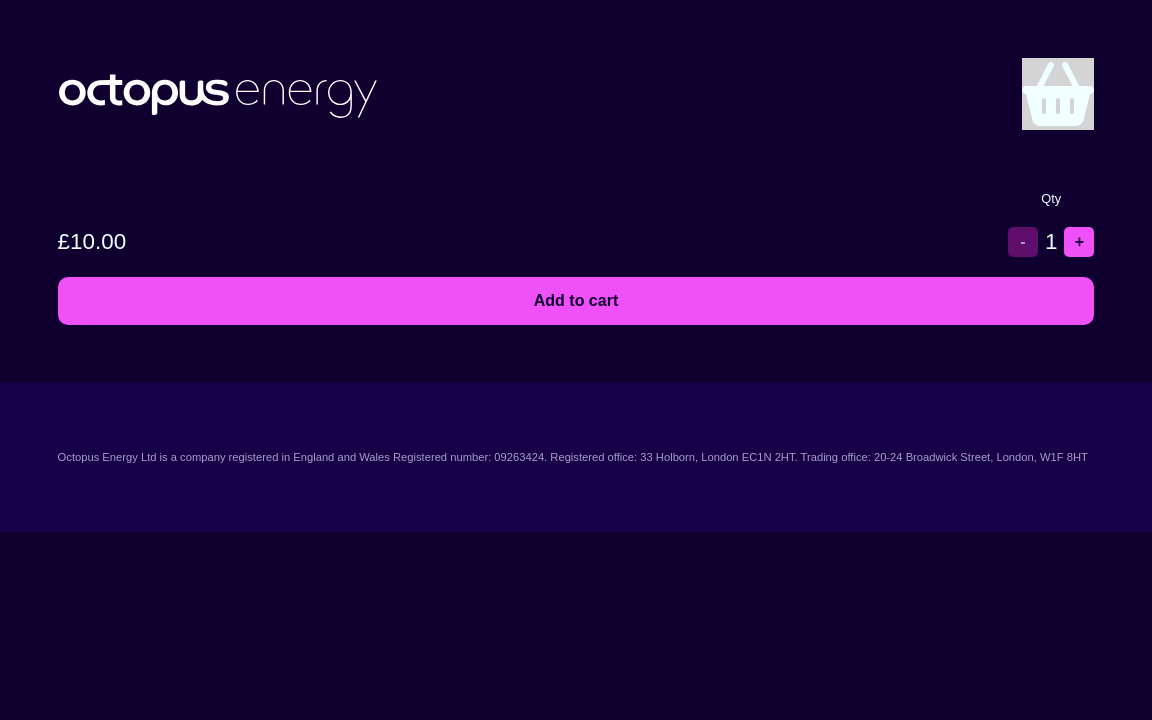
Test case: QuantityControls Component › should reset quantity to 1 if no error after adding to cart
Click the button "+".
click(1079, 242)  # box [1064,227,1094,257]
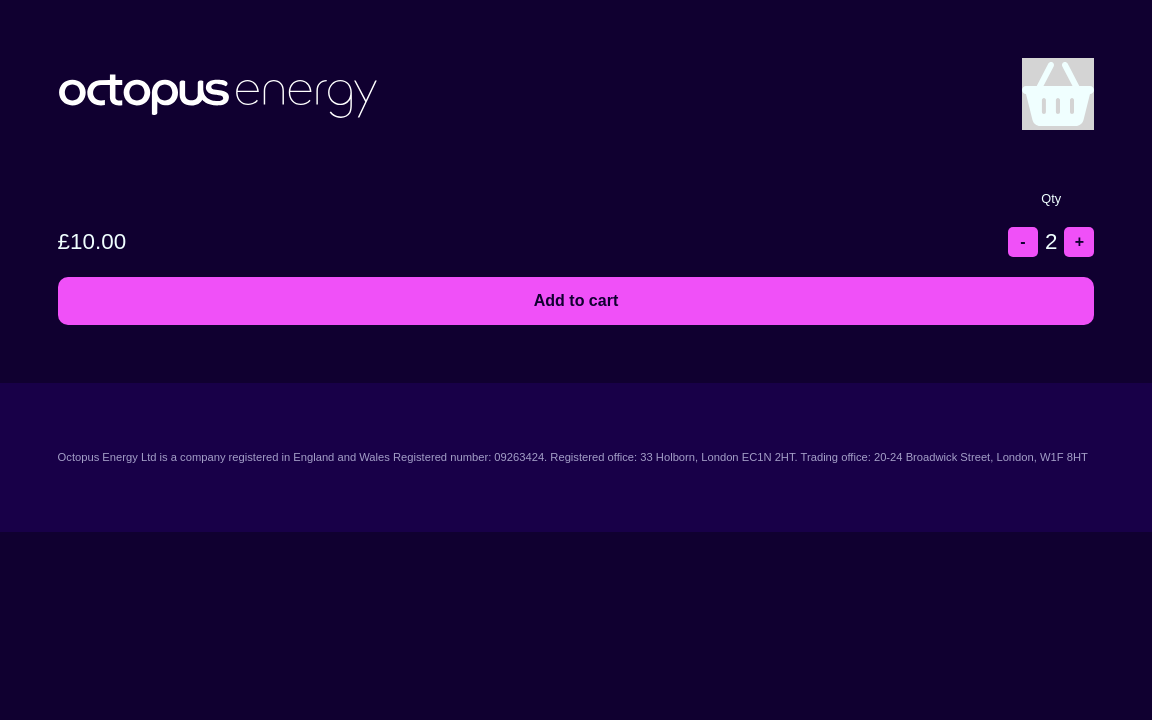
Click the button "Add to cart".
click(576, 301)  # box [58,277,1094,325]
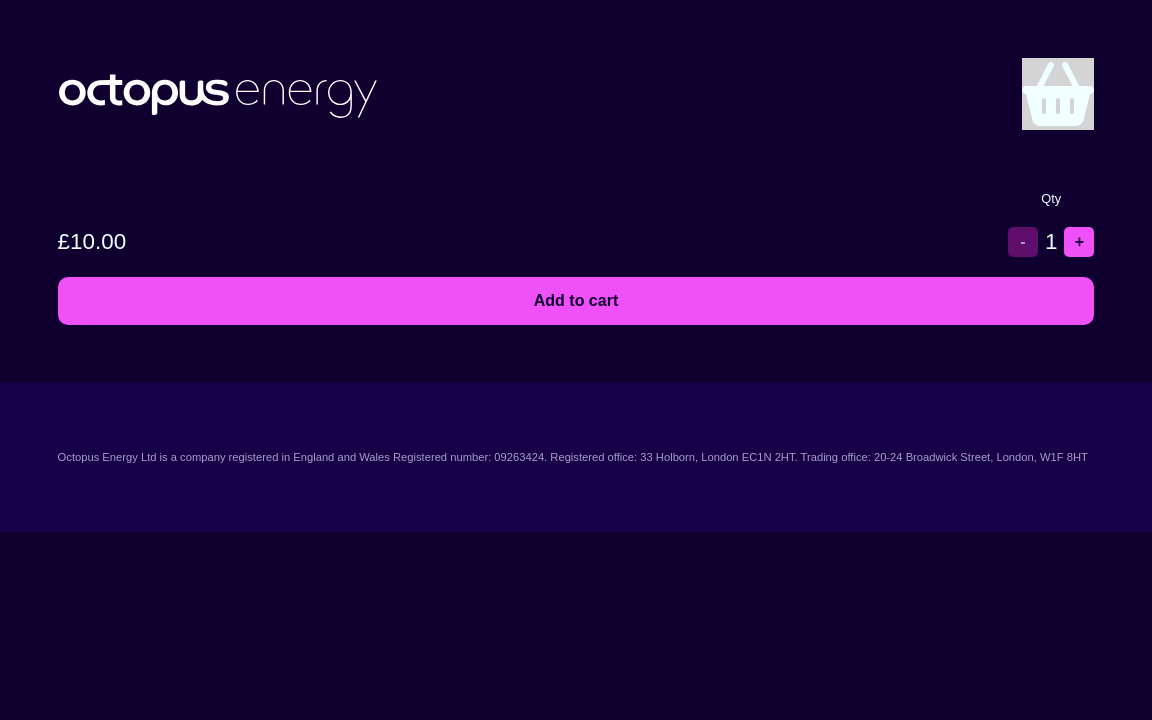
expect the text titled "Current quantity" reads "1": met, box [1045,229,1058,254]
